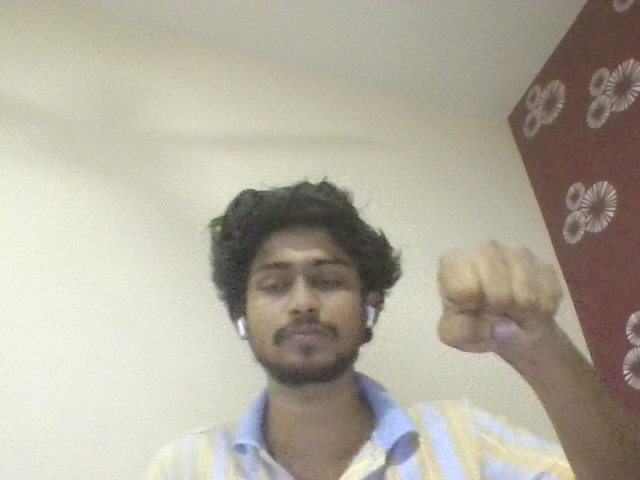yes: (429, 232, 580, 352)
